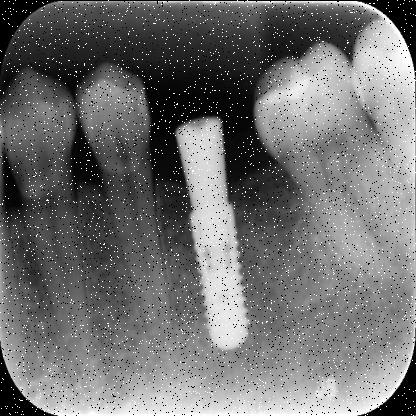ITI: (183, 178, 257, 360)
